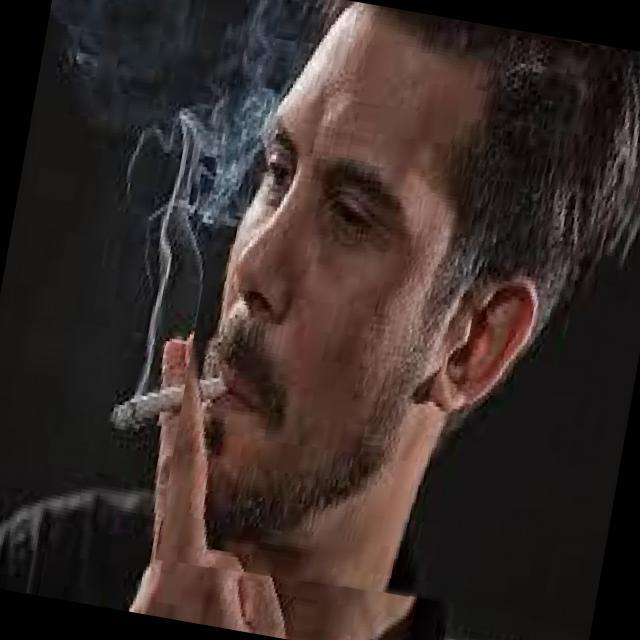cigarette: (98, 331, 262, 447)
